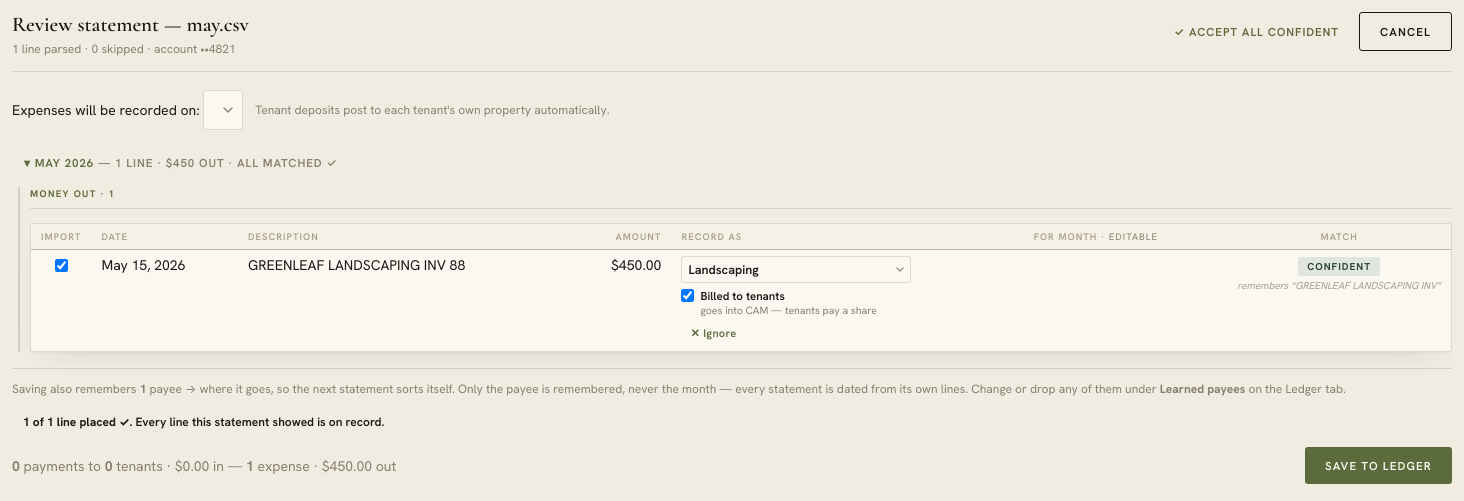
Test: StatementReview — the affordances around Save › money out has a one-click ✕ Ignore, and the menu is the way back
Check: the text "Money out · 1" is shown, box [30,187,1452,209]
Check: the 2nd dropdown shows "Landscaping", box [681,256,911,283]
Click the button "✕ Ignore" at (713, 333), box [681,321,745,345]
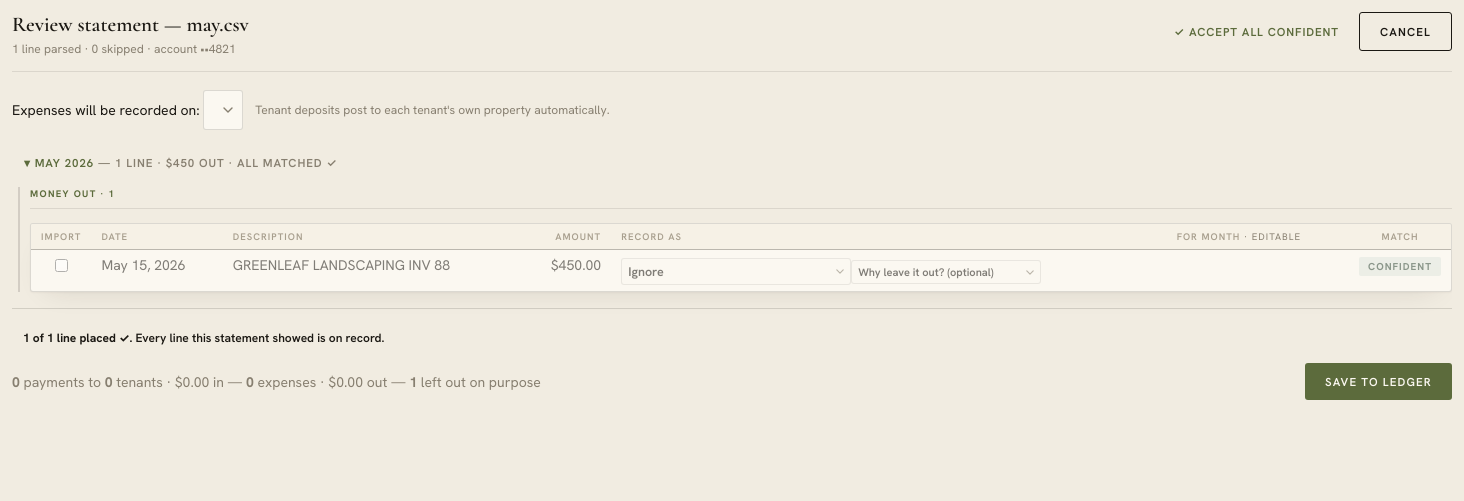
Check: the 2nd dropdown shows "Ignore"
Select "Landscaping" in the 2nd dropdown at (736, 272), box [621,258,851,285]
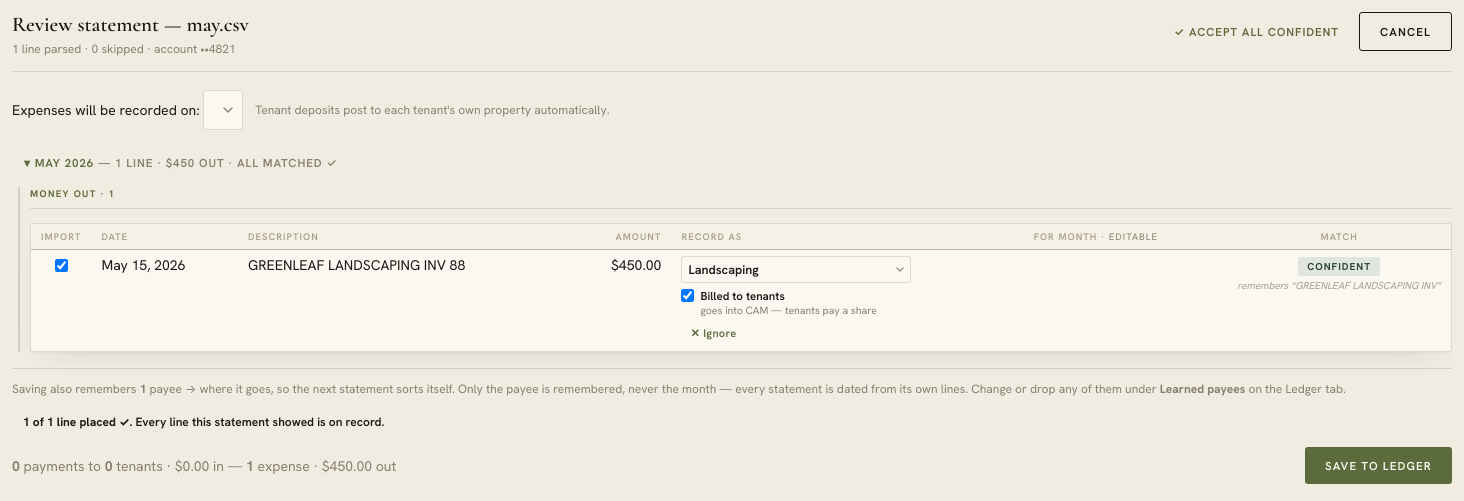
Check: the checkbox named "Include this line" is checked, box [55,259,68,272]
